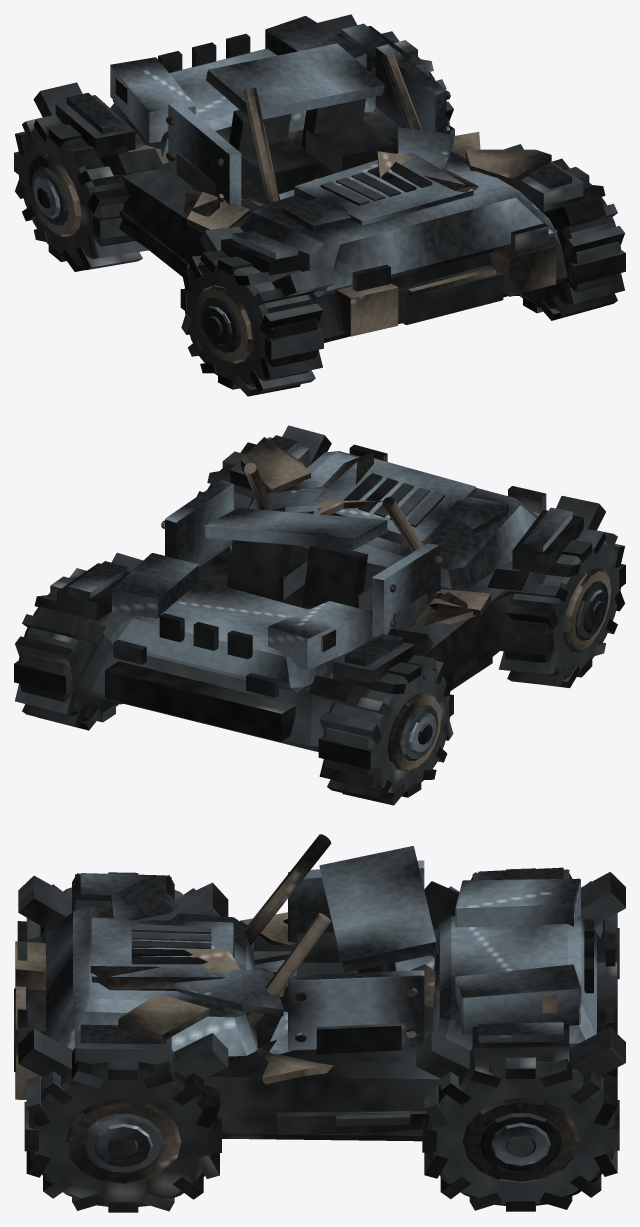
File: explorer-1.glb
3 renders of one model, top to bottom at view 1: azimuth 30°, elevation 25°; view 2: azimuth 150°, elevation 25°; view 3: azimuth 270°, elevation 25°, orthographic. The views are drawn at different scales.
Parts seen in each view (by area): view 1: wreck.explorer.structure, wreck.explorer.team, wreck.explorer.neutral; view 2: wreck.explorer.structure, wreck.explorer.team, wreck.explorer.neutral; view 3: wreck.explorer.structure, wreck.explorer.team, wreck.explorer.neutral.
Part boxes in pixels (left/top/right/bottom): wreck.explorer.structure: left=14, top=14, right=625, bottom=396; wreck.explorer.team: left=33, top=16, right=571, bottom=345; wreck.explorer.neutral: left=28, top=53, right=555, bottom=363; wreck.explorer.structure: left=14, top=425, right=625, bottom=805; wreck.explorer.team: left=68, top=435, right=607, bottom=753; wreck.explorer.neutral: left=100, top=437, right=611, bottom=771; wreck.explorer.structure: left=14, top=868, right=625, bottom=1212; wreck.explorer.team: left=46, top=846, right=596, bottom=1167; wreck.explorer.neutral: left=15, top=834, right=579, bottom=1183.
Bounding box in the file's own units: 1.81 × 0.9745 × 2.15.
Materials: 3 (3 with a texture image).
